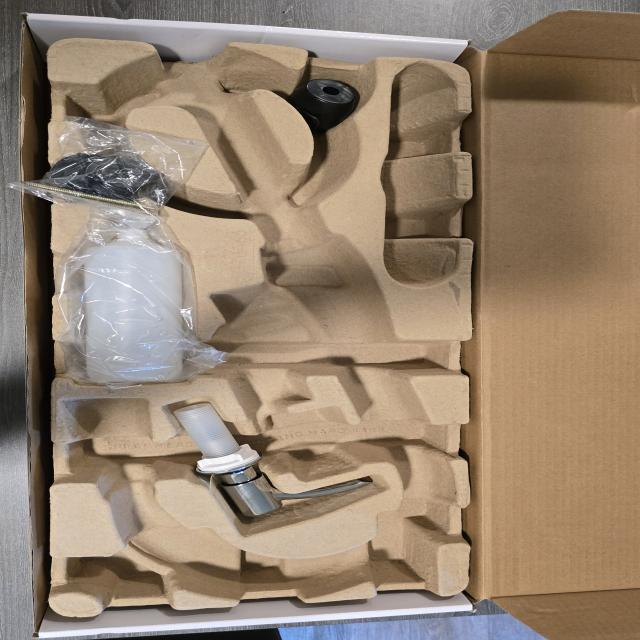1m: (62, 40, 456, 600)
2: (173, 401, 372, 519)
3o: (79, 214, 191, 385)
4m: (380, 64, 457, 288)
5: (290, 78, 361, 131)
6m: (67, 66, 165, 146)
7: (6, 112, 212, 223)
